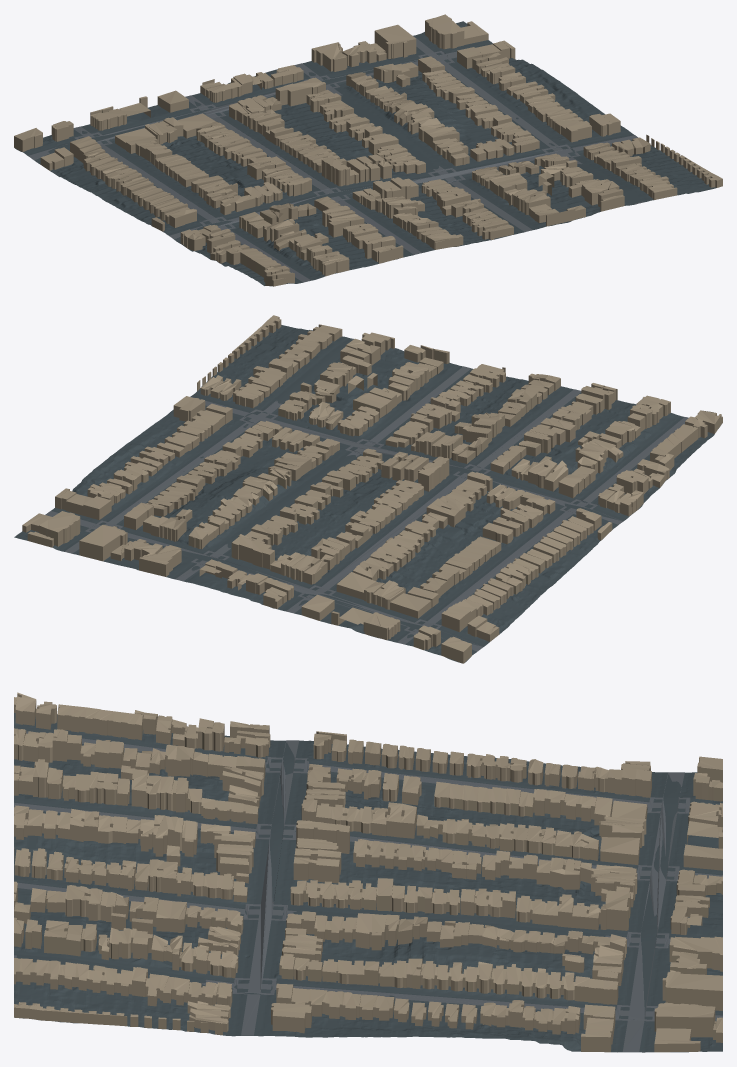
The model's file is epsg26910-1416-10888.lod0.glb.
3 renders of one model, top to bottom at view 1: azimuth 30°, elevation 25°; view 2: azimuth 150°, elevation 25°; view 3: azimuth 270°, elevation 25°, orthographic. The views are drawn at different scales.
Visible parts, largest first — view 1: epsg26910-1416-10888-lod0; view 2: epsg26910-1416-10888-lod0; view 3: epsg26910-1416-10888-lod0.
Part boxes in pixels (x1,y1,x2,y2): epsg26910-1416-10888-lod0: (14,14,722,286); epsg26910-1416-10888-lod0: (14,315,722,663); epsg26910-1416-10888-lod0: (14,692,722,1052).
Size of the model in its own units: 384 by 50.79 by 384.
